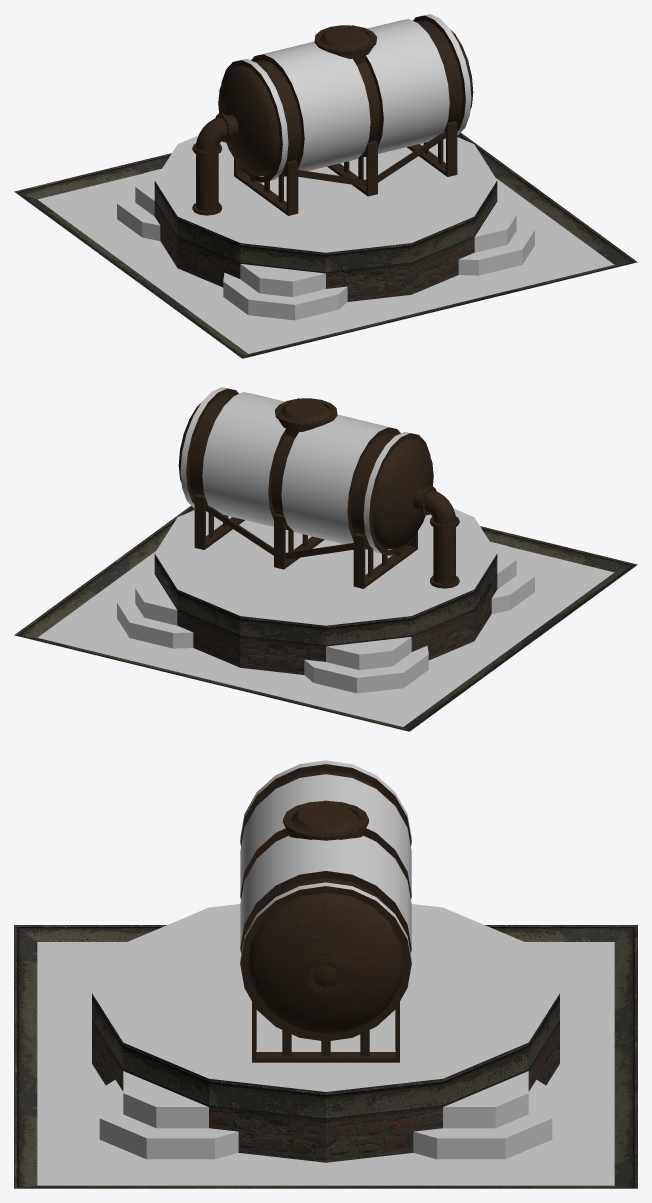
Rendered from structure_piece_rg_2.fbx.
3 renders of one model, top to bottom at view 1: azimuth 30°, elevation 25°; view 2: azimuth 150°, elevation 25°; view 3: azimuth 270°, elevation 25°, orthographic. The views are drawn at different scales.
Parts seen in each view (by area): view 1: structure_piece_rg_2, boiler_hx_2; view 2: structure_piece_rg_2, boiler_hx_2; view 3: structure_piece_rg_2, boiler_hx_2.
Boxes of the visible parts, box(x1,y1,x2,y2) form: structure_piece_rg_2: box(14, 133, 637, 358); boiler_hx_2: box(192, 14, 473, 215); structure_piece_rg_2: box(14, 506, 637, 731); boiler_hx_2: box(178, 387, 459, 588); structure_piece_rg_2: box(14, 904, 637, 1188); boiler_hx_2: box(240, 760, 411, 1062).
Size of the model in its own units: 8 by 8 by 3.7.
